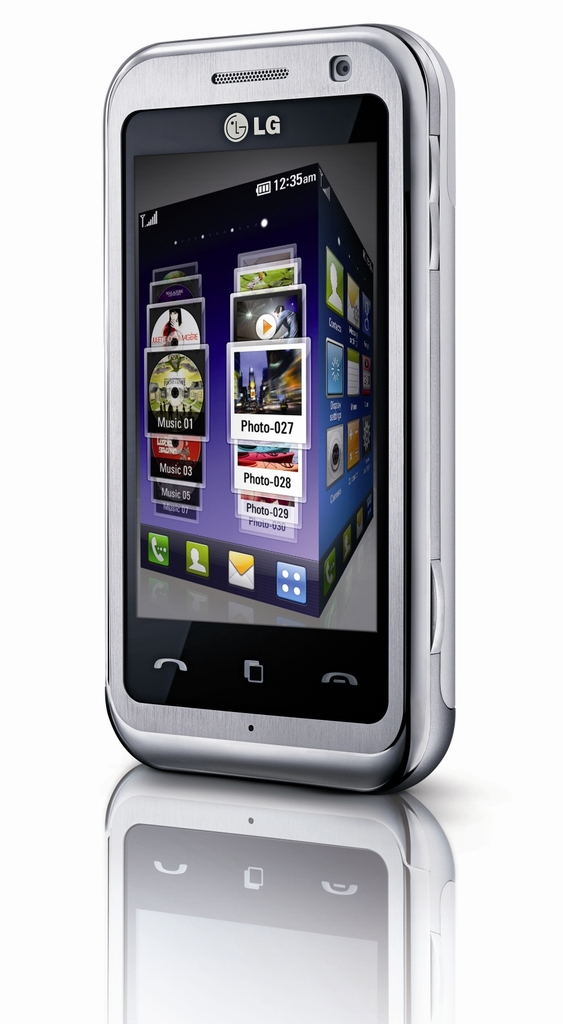mobile phone: (99, 23, 443, 779)
